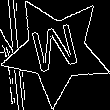M_S: (29, 20, 84, 81)
